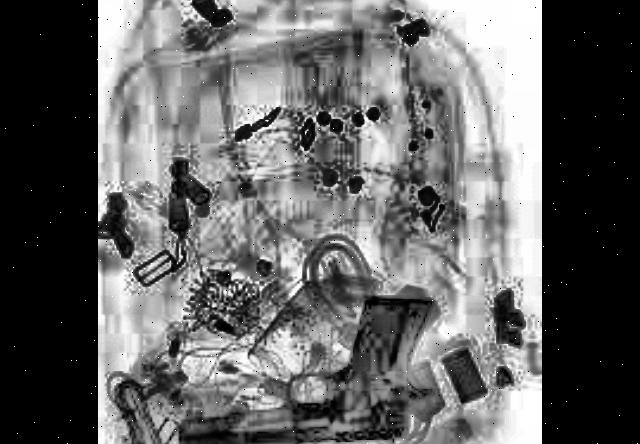Gun: (179, 293, 438, 444)
